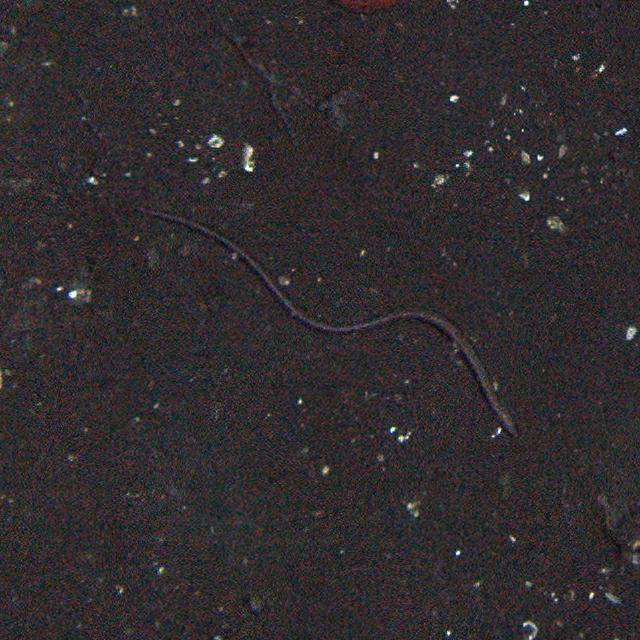eel: (131, 200, 524, 442)
